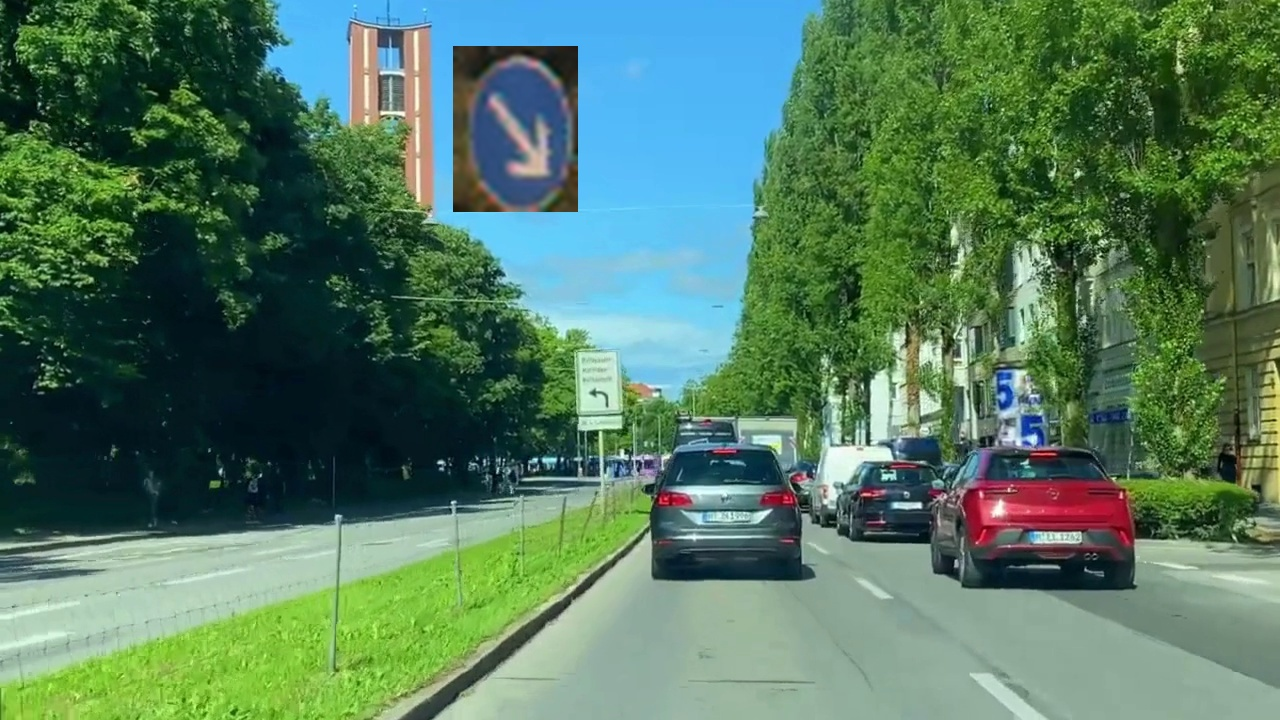Keep right: (453, 46, 578, 212)
